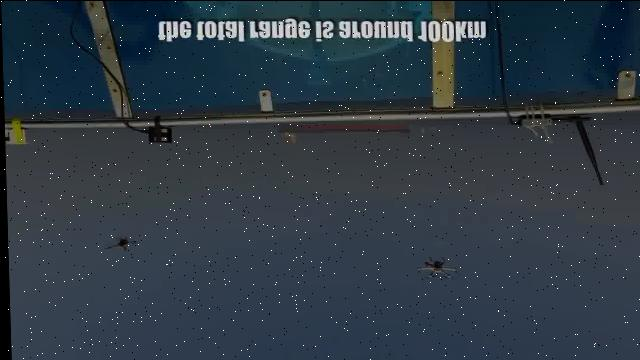drone: (411, 254, 455, 282), (102, 235, 135, 253)
